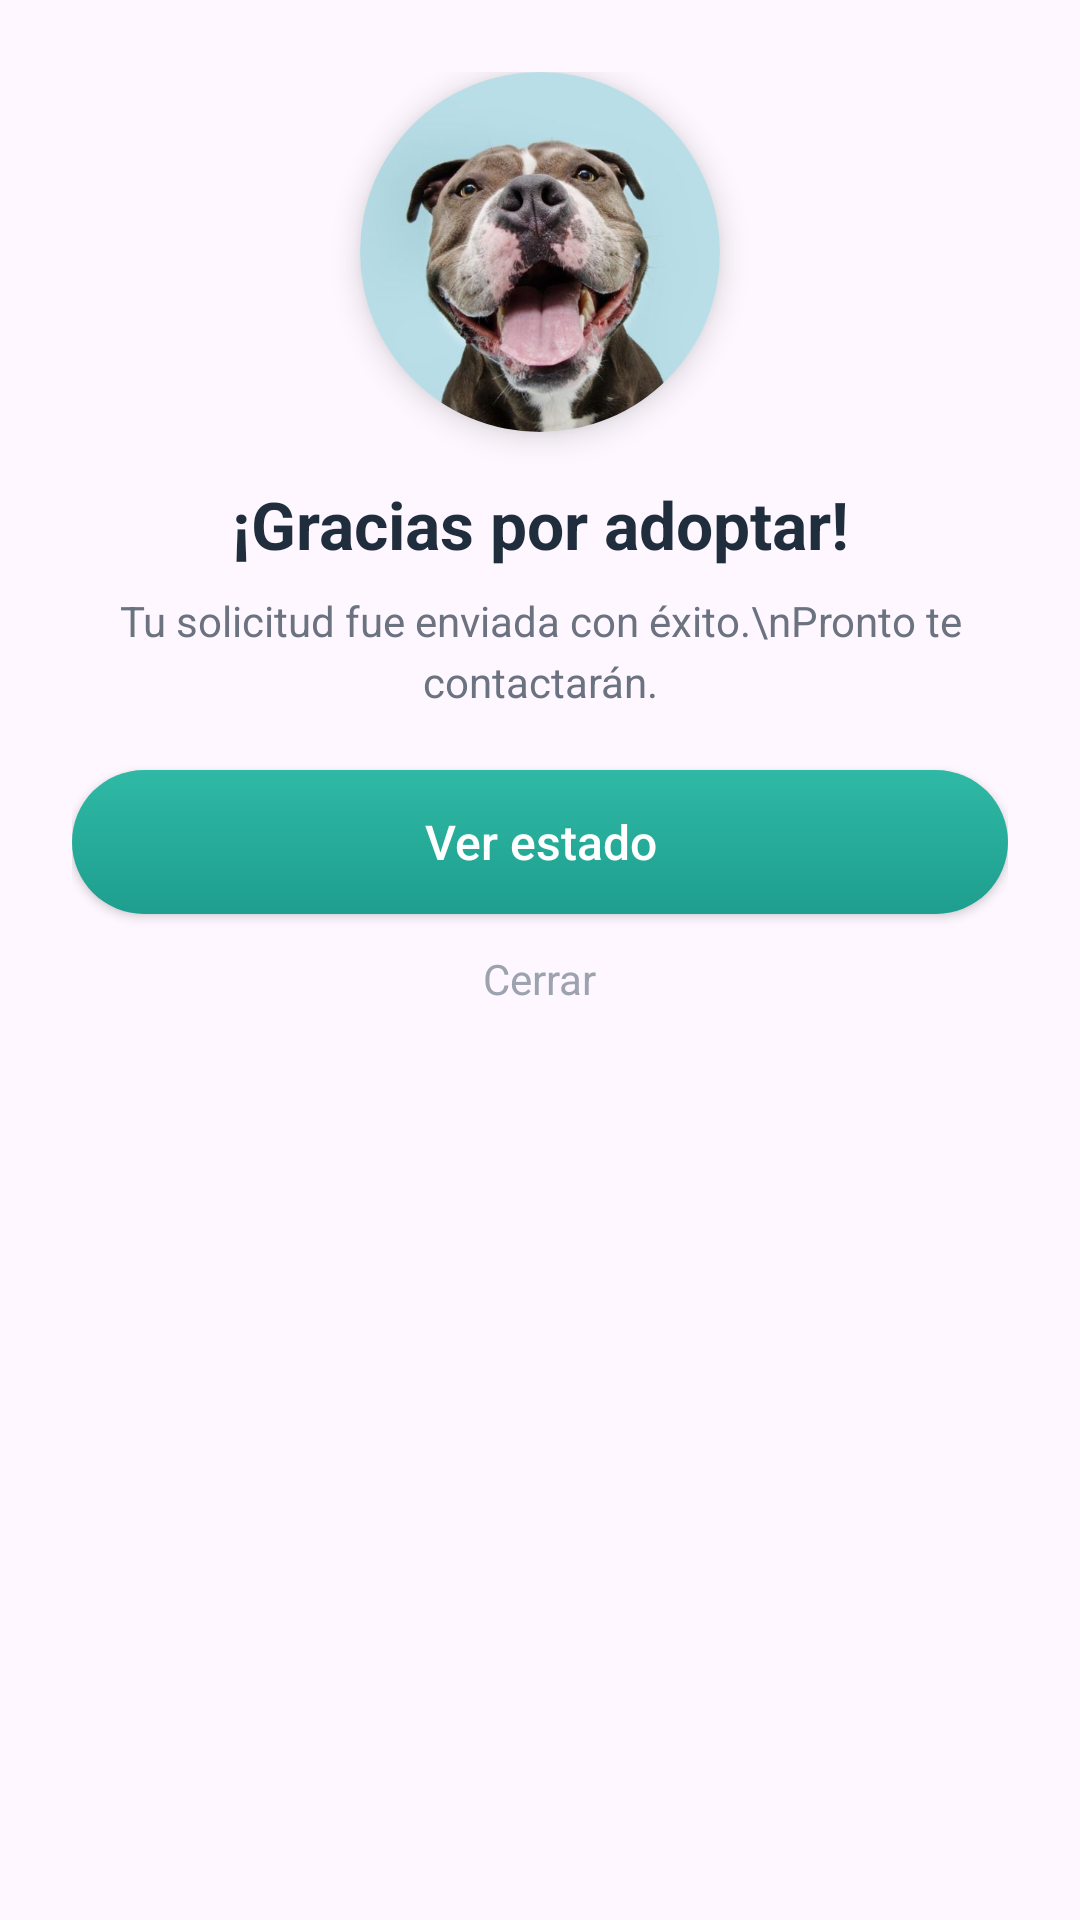

Screen size 1080w x 1920h. Icon name, then its center in pixels as (x=x, y=y):
pit: (x=540, y=252)
